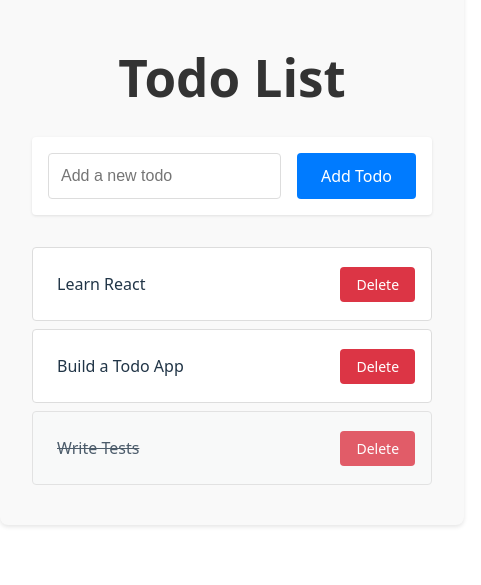
Scenario: TodoList Component › adds todo when Enter key is pressed
In the field with placeholder "Add a new todo": (164, 176) [48,153,281,199], type "Todo via Enter key"
Then press Enter
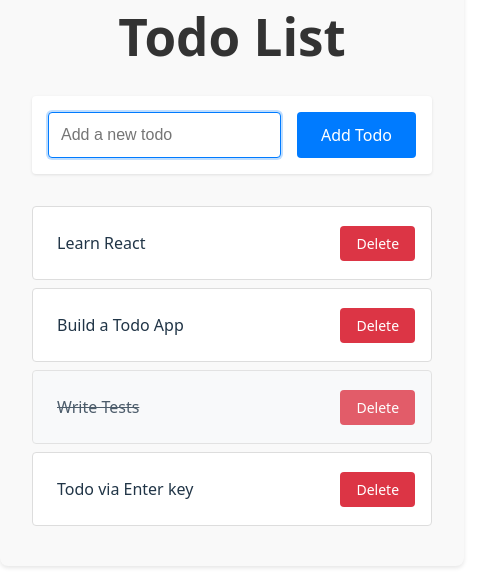
Expected: the field with placeholder "Add a new todo" is empty, [48,112,281,158]
Result: the text "Todo via Enter key" is shown at [57,478,193,500]
